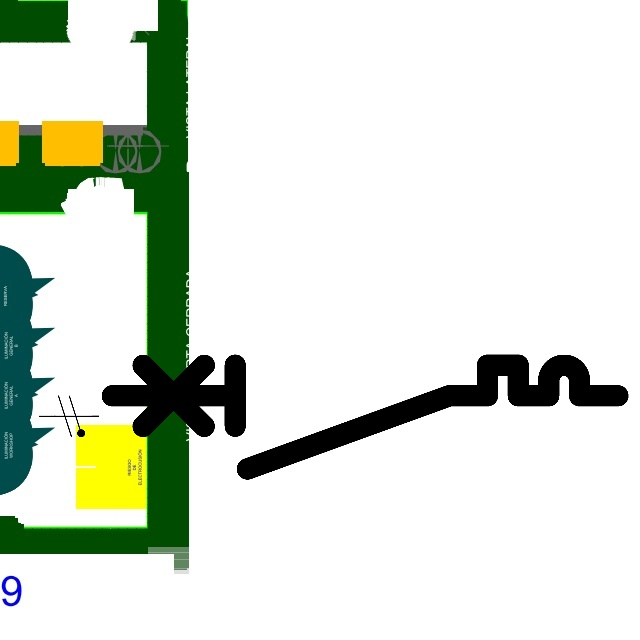interruptor_termomagnetico: (99, 352, 631, 482)
